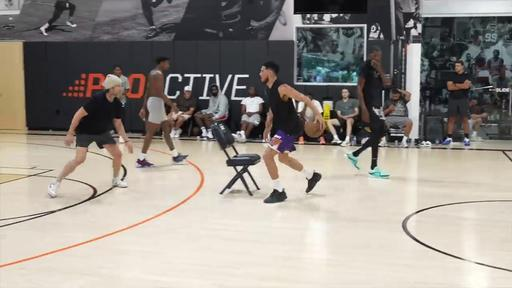ball: (304, 119, 324, 137)
human: (48, 74, 134, 198), (260, 60, 325, 202), (346, 44, 390, 179), (136, 56, 189, 168), (442, 61, 471, 146), (195, 84, 229, 141), (232, 85, 264, 142), (328, 89, 359, 147), (386, 88, 412, 149), (170, 84, 196, 138)
